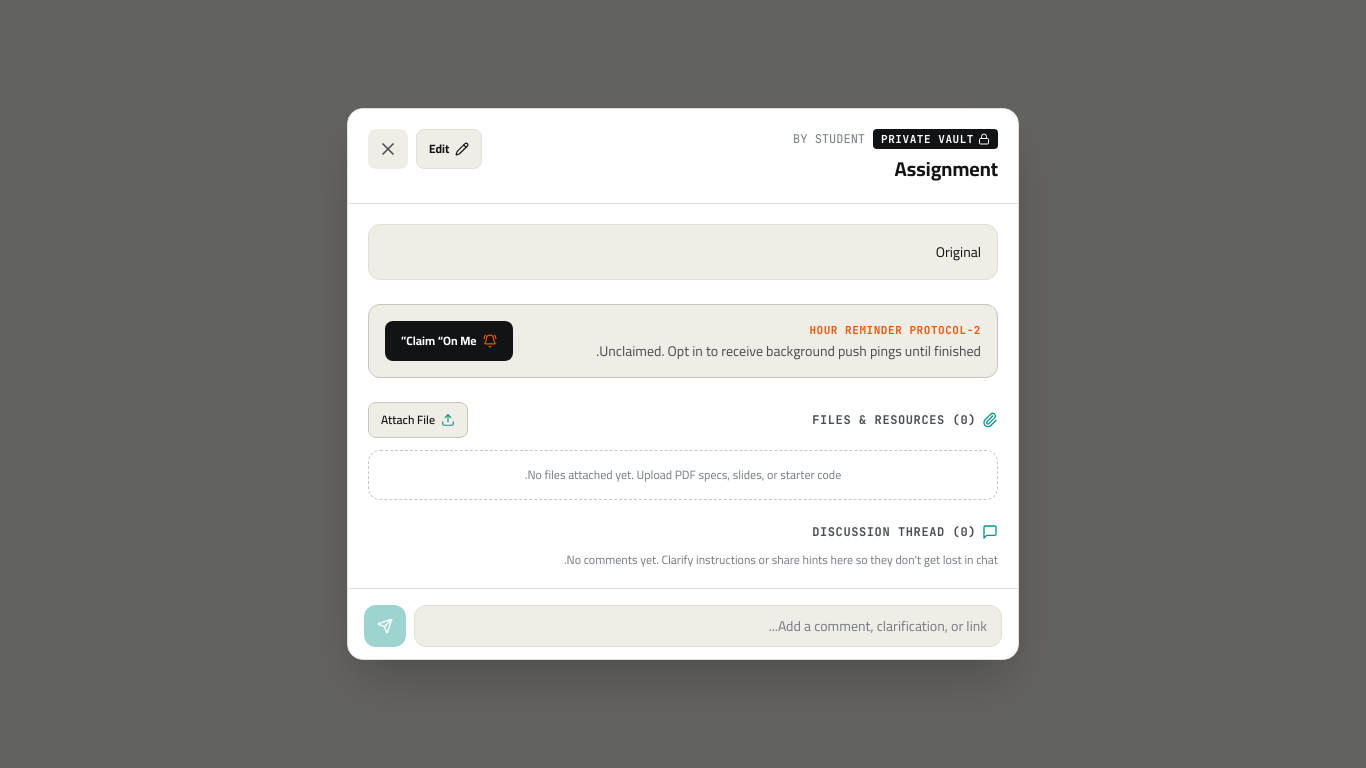
Test: student draft recovery › keeps a failed comment available to retry
Type "Please save this" into the field with placeholder "Add a comment, clarification, or link..." at [708, 626], box [414,605,1002,647]
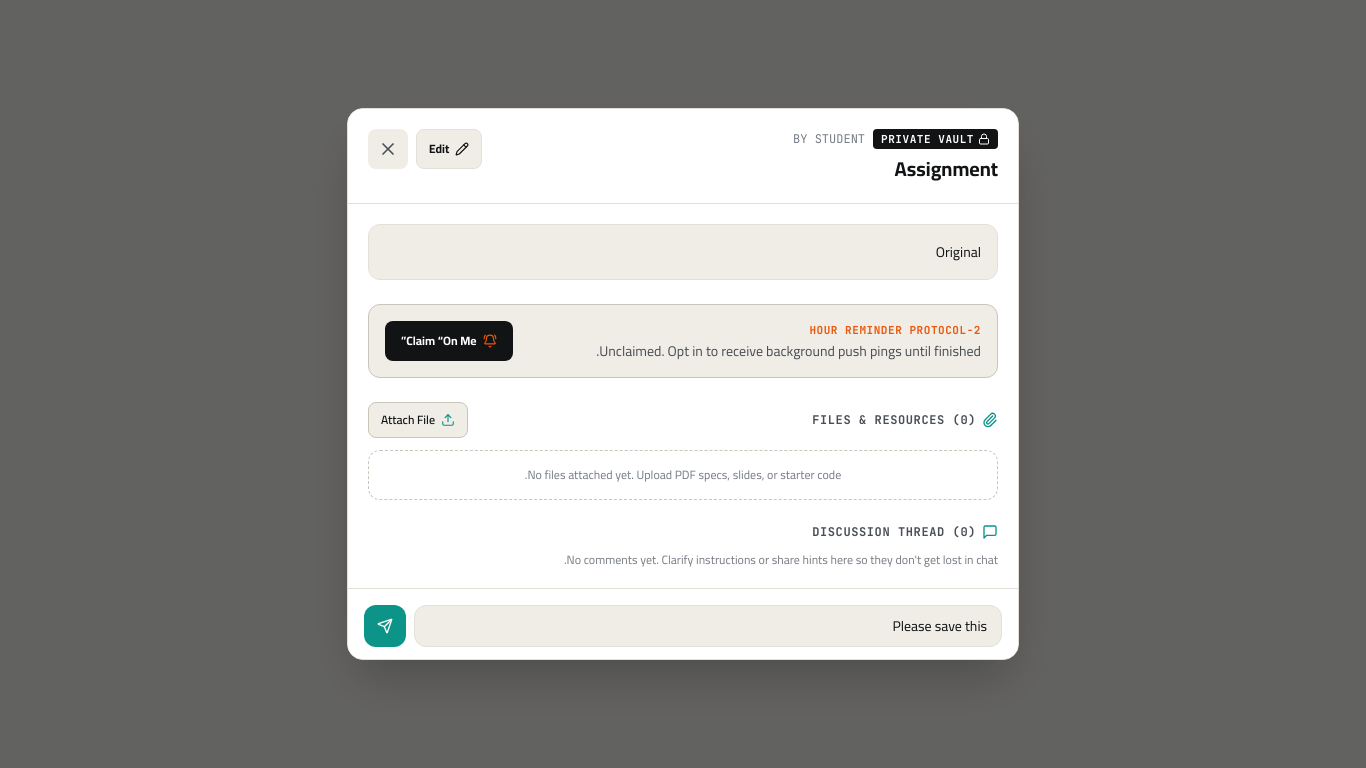
Click the button named "Send comment" at [385, 626], box [364,605,406,647]
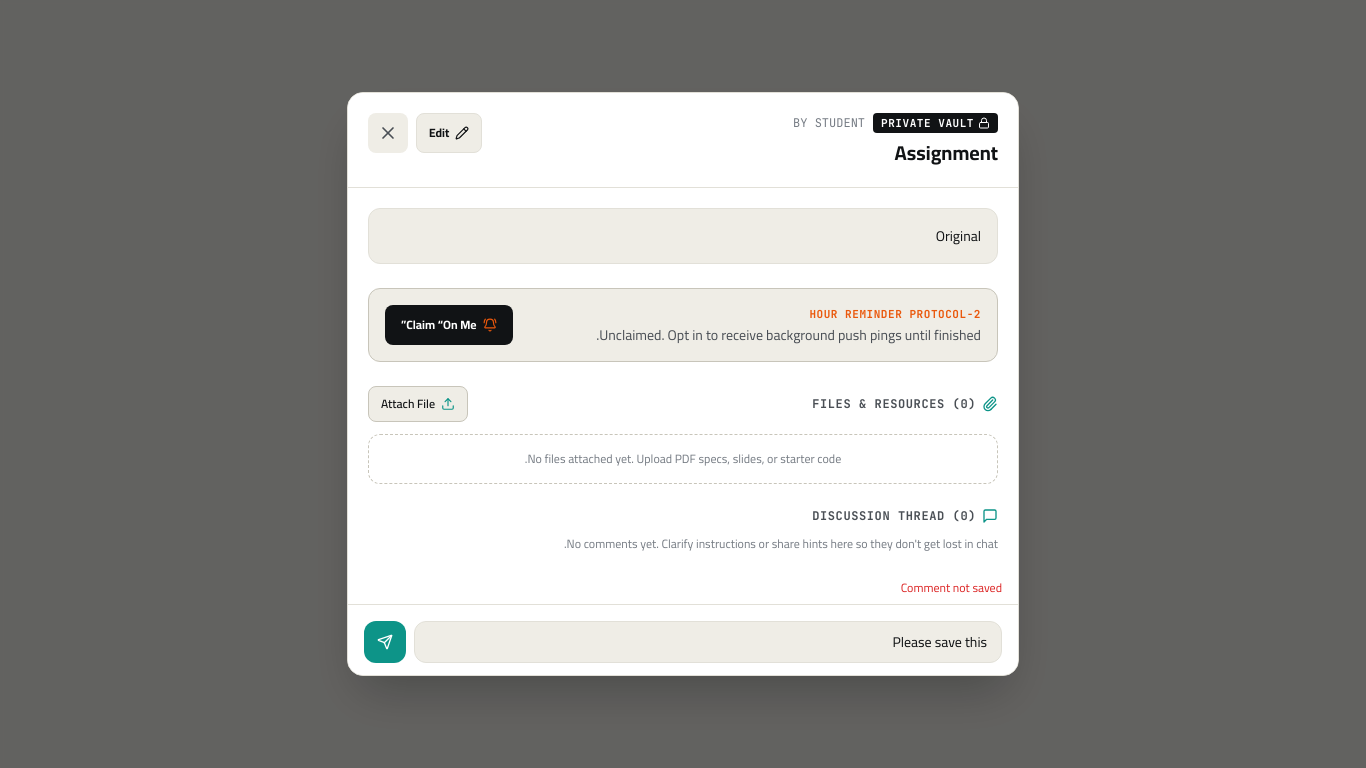
Expected: the message reads "Comment not saved", [901,576,1002,599]
